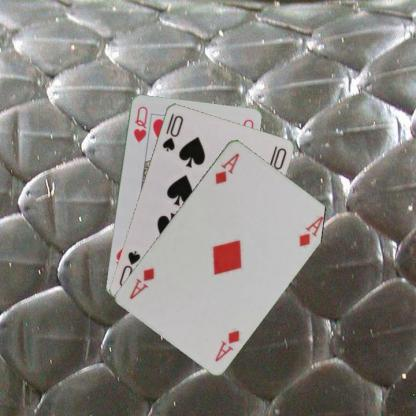10s: (160, 110, 184, 152)
Ad: (212, 327, 241, 363), (212, 150, 240, 186)
Qh: (130, 104, 148, 144)
